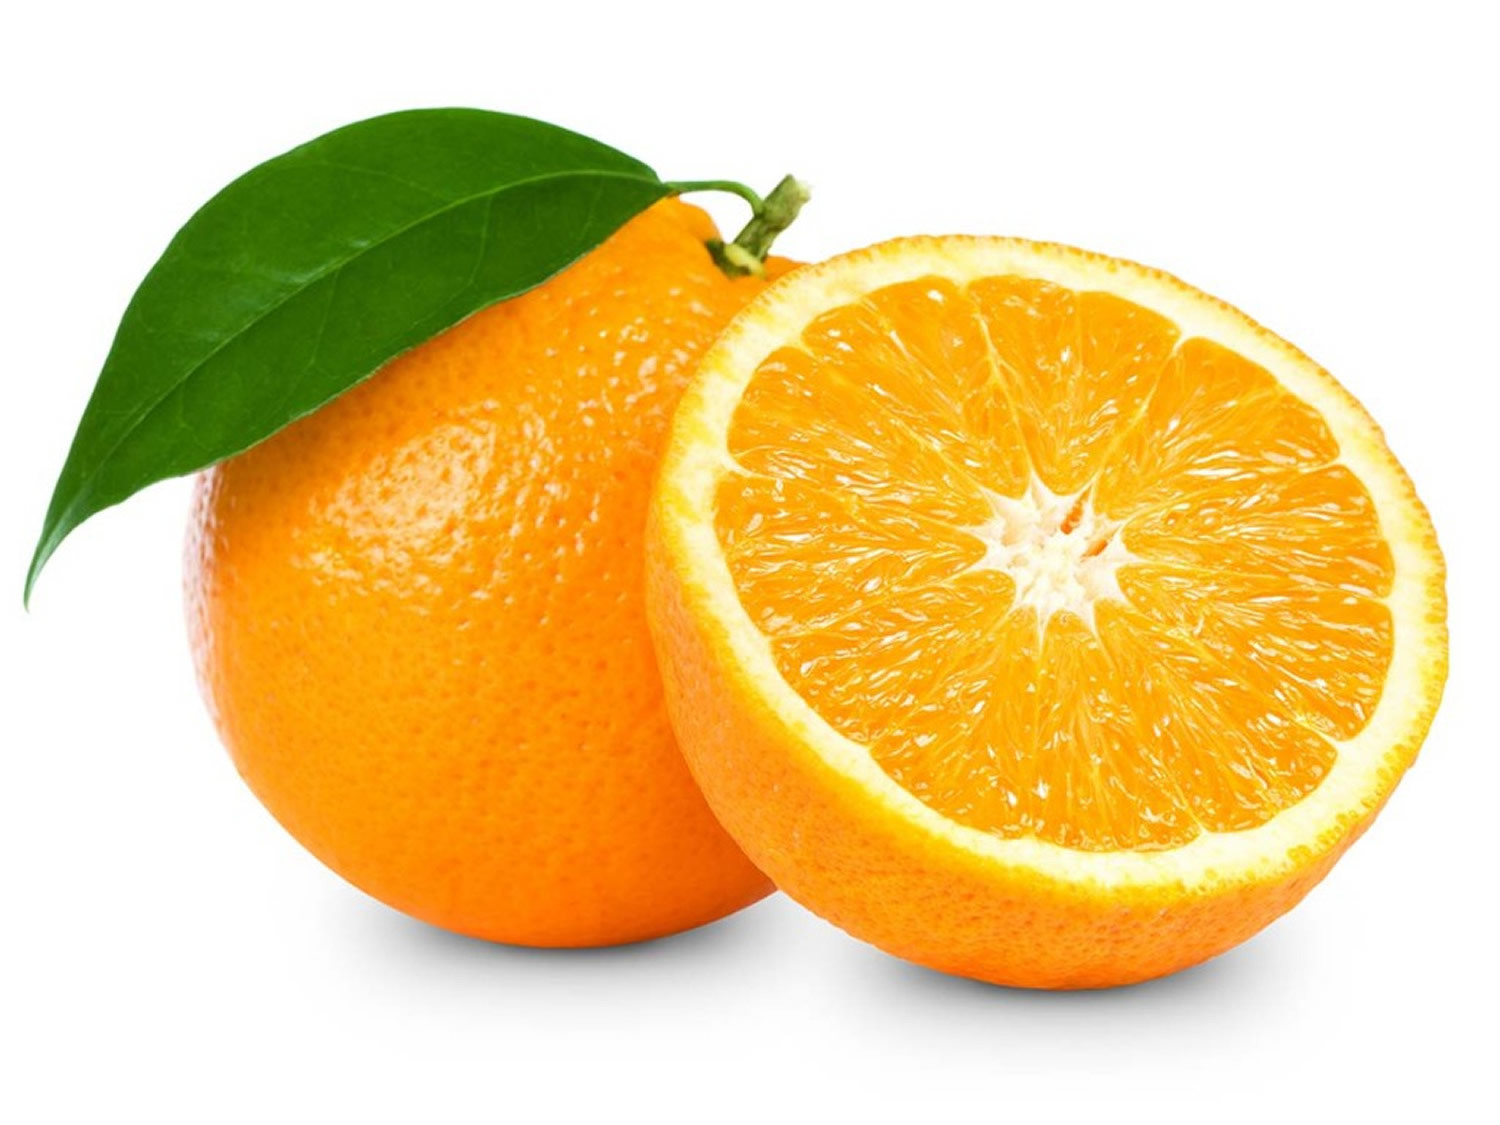orange: (150, 165, 923, 983)
